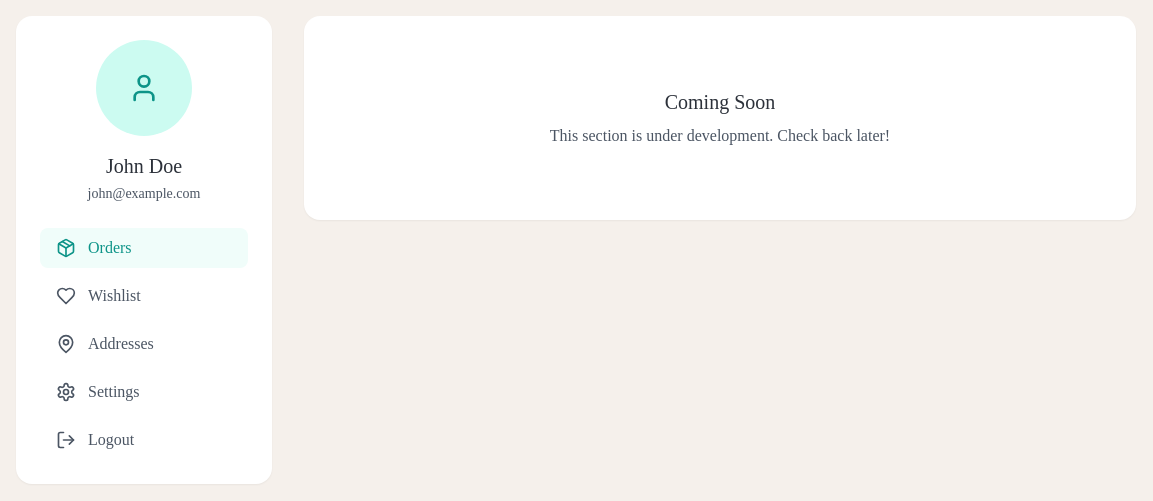
Test: UserProfile › switches between tabs correctly
Step 1. Click the button "Orders" → (144,248), box [40,228,248,268]
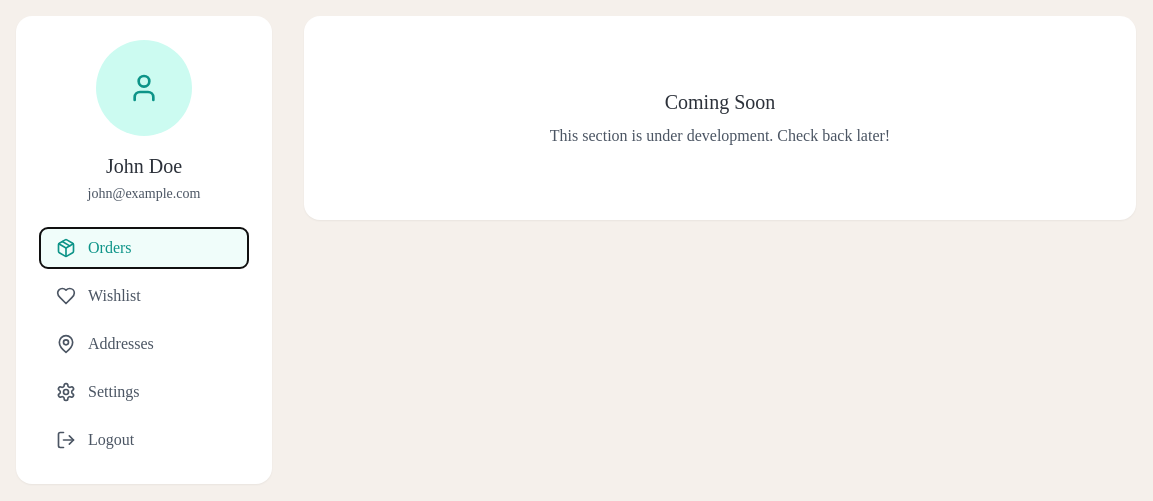
Expected: the heading "Coming Soon" is shown, [665,91,775,113]
Step 2. Click the button "Wishlist" → (144,296), box [40,276,248,316]
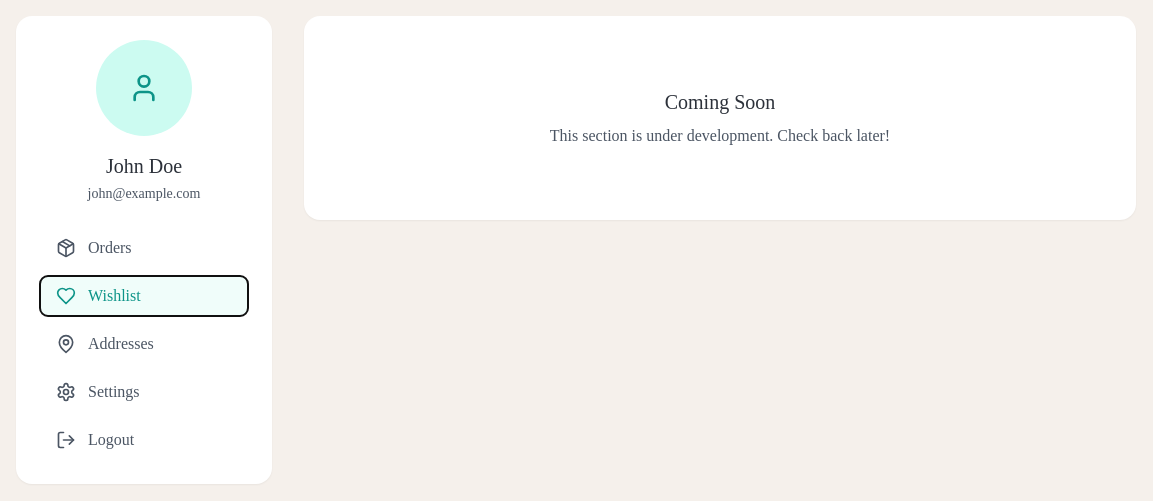
Expected: the heading "Coming Soon" is shown, [665,91,775,113]
Step 3. Click the button "Addresses" → (144,344), box [40,324,248,364]
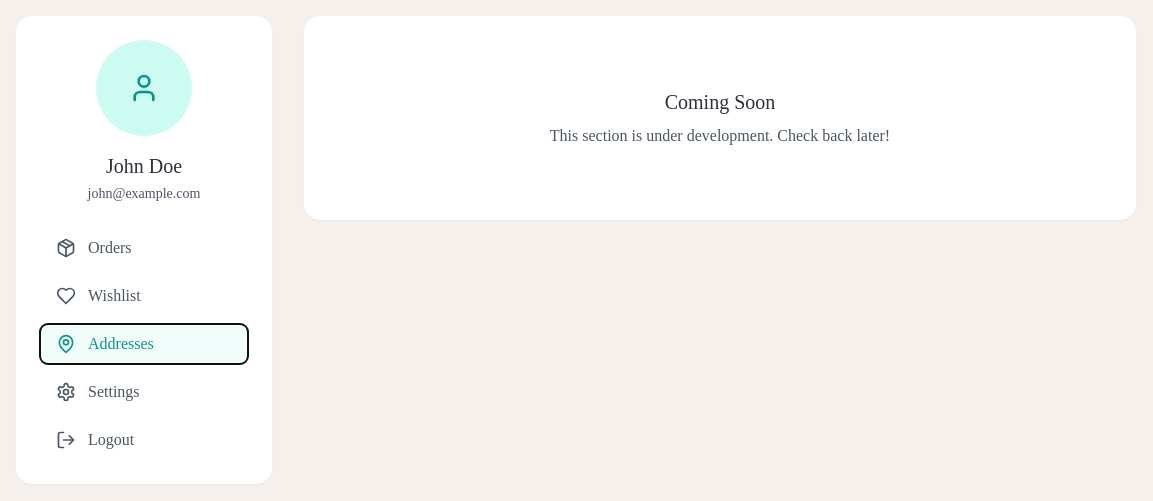
Expected: the heading "Coming Soon" is shown, [665,91,775,113]
Step 4. Click the button "Settings" → (144,392), box [40,372,248,412]
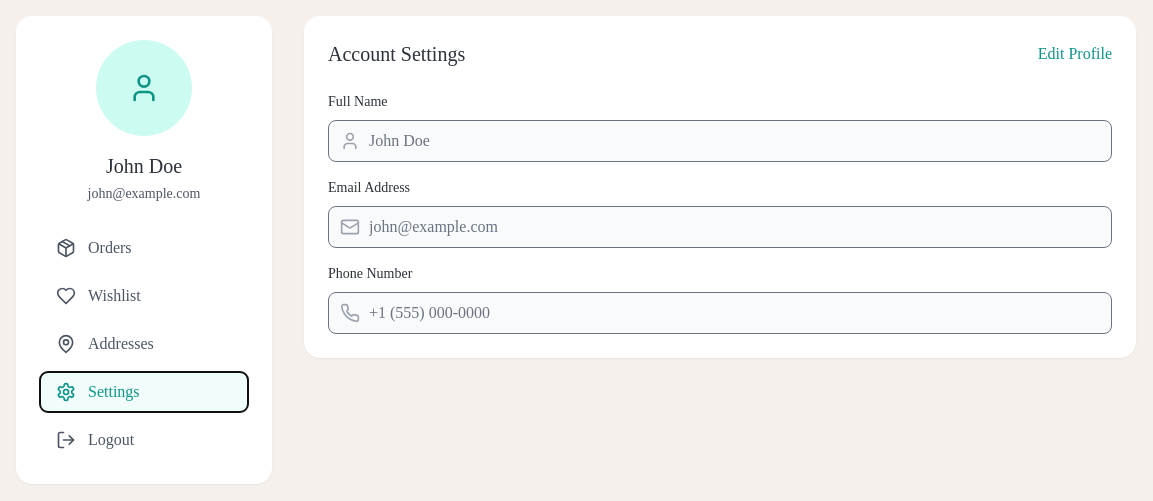
Now the heading "Account Settings" is shown, box [328,40,465,68]
